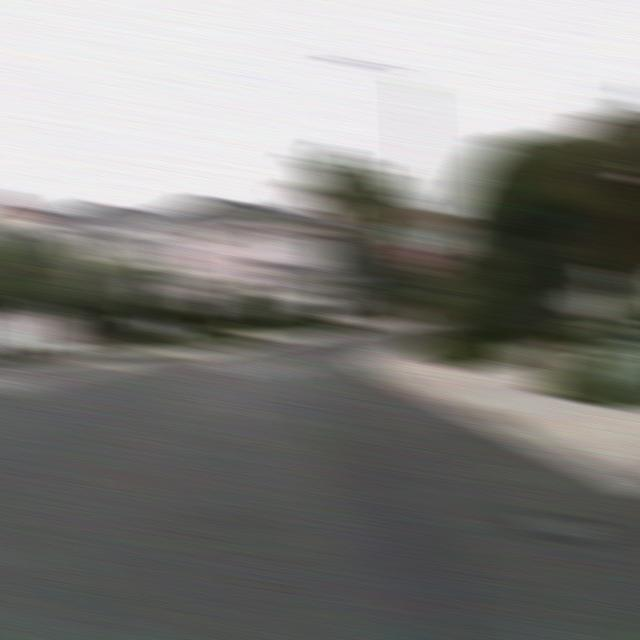stop_sign: (402, 241, 442, 276)
